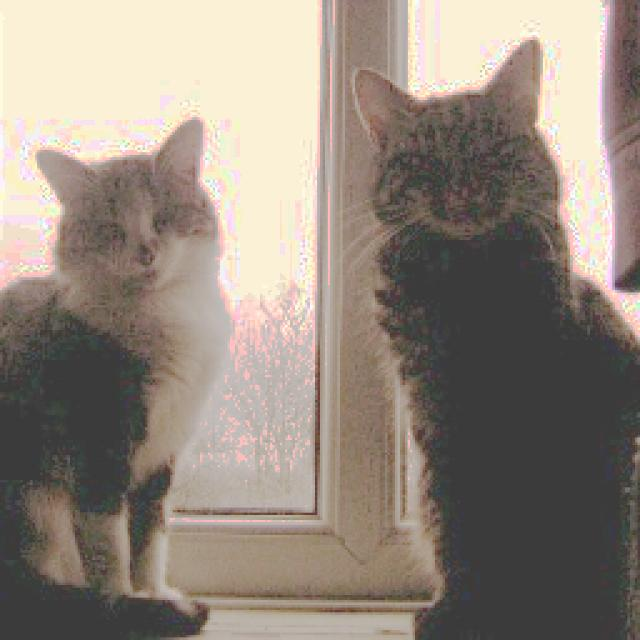cat: (340, 35, 638, 640), (0, 100, 288, 628)
